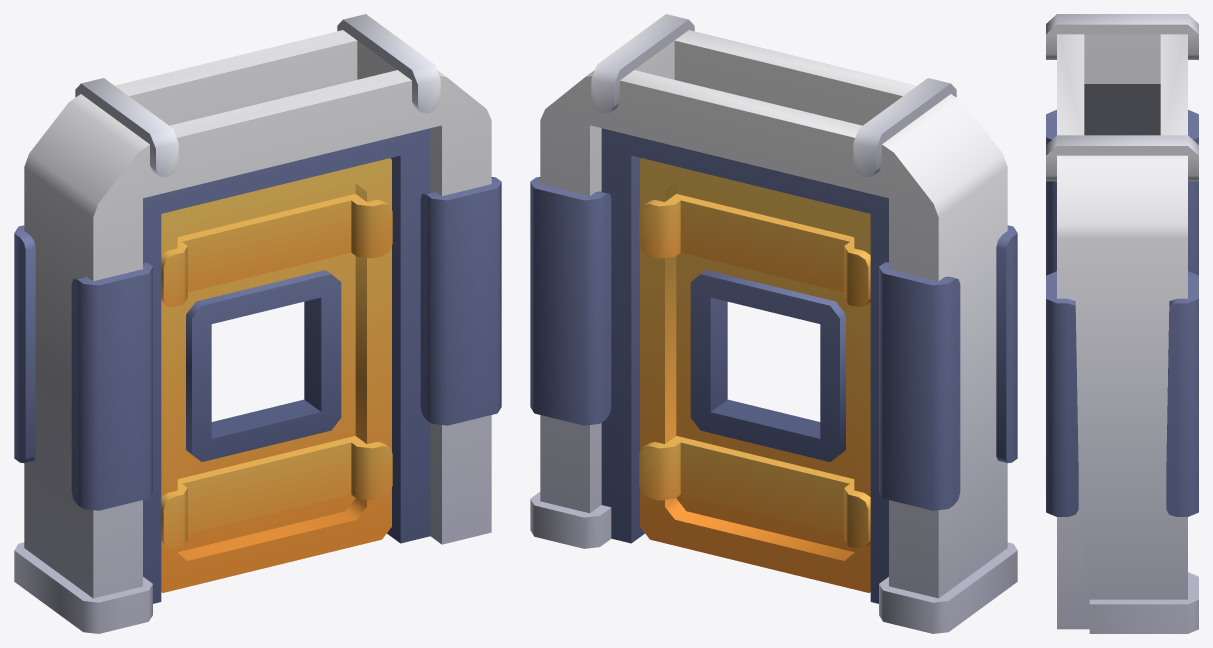
File: kenney-space-gate-door-window.glb
3 renders of one model, left to right at view 1: azimuth 30°, elevation 25°; view 2: azimuth 150°, elevation 25°; view 3: azimuth 270°, elevation 25°, orthographic. The views are drawn at different scales.
Parts seen in each view (by area): view 1: gate-door-window, door; view 2: gate-door-window, door; view 3: gate-door-window.
Part boxes in pixels (<box>): gate-door-window: <box>14,14,501,633</box>; door: <box>161,158,392,592</box>; gate-door-window: <box>530,14,1017,633</box>; door: <box>639,158,870,592</box>; gate-door-window: <box>1046,14,1198,633</box>.
Size of the model in its own units: 3.15 by 3.47 by 1.05.
1 material, 1 textured.
